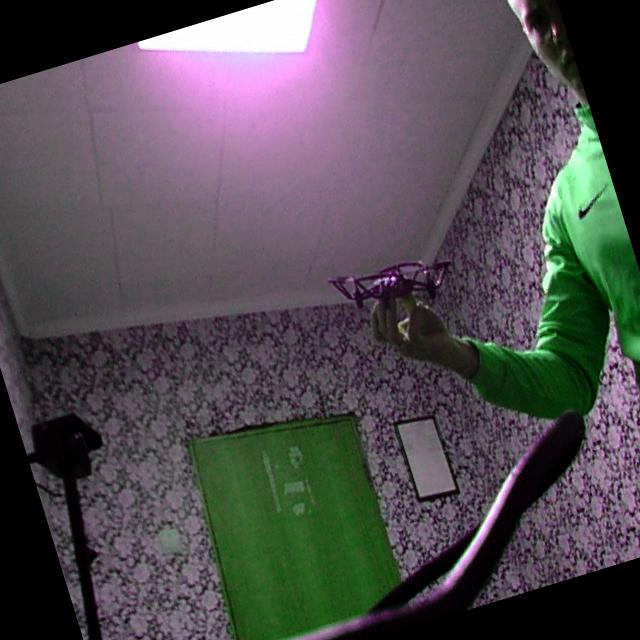drone: (316, 218, 466, 341)
